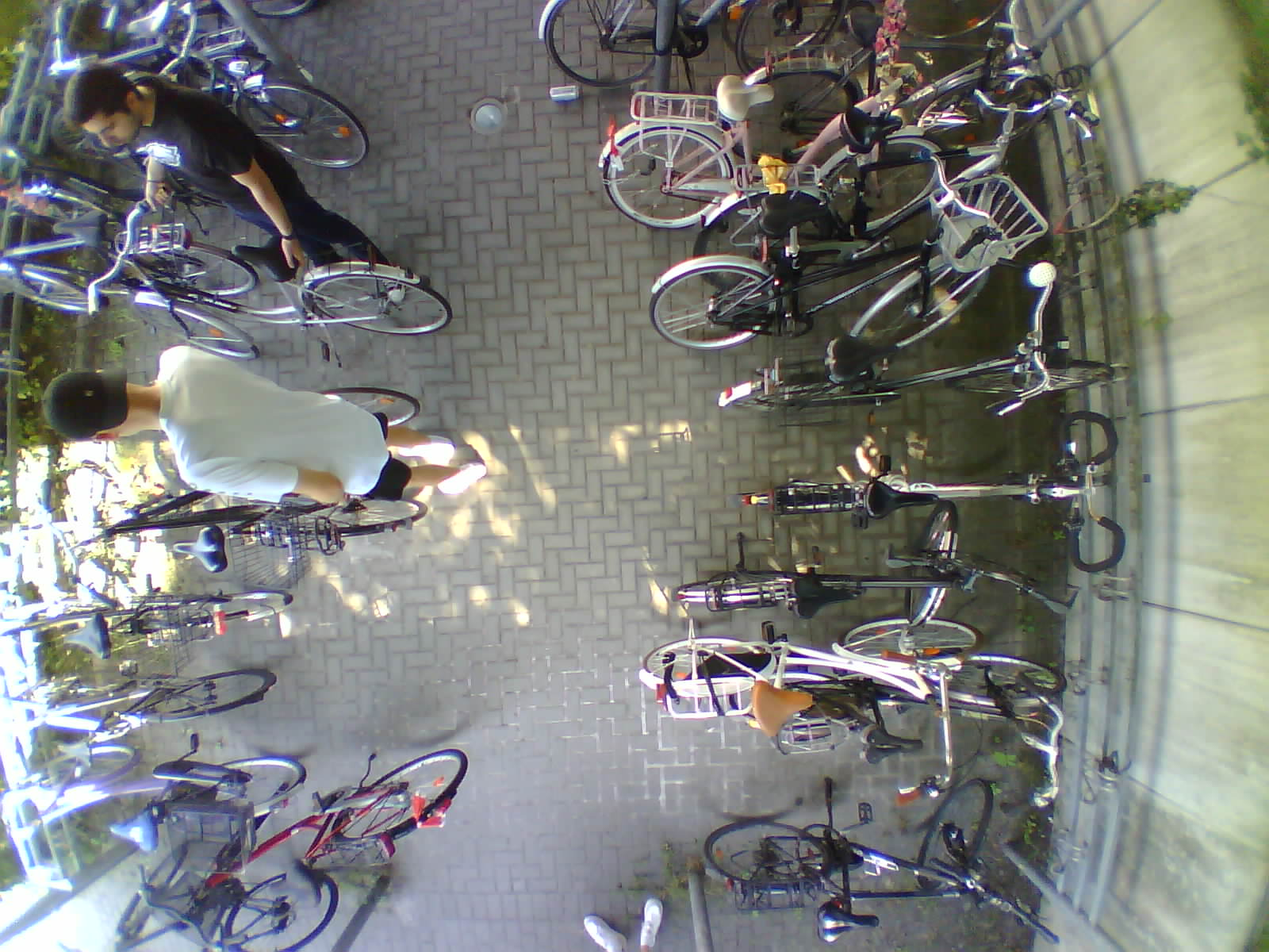bicylce: (694, 113, 1036, 296), (599, 64, 944, 230), (648, 196, 997, 353), (719, 27, 1054, 175), (702, 782, 995, 927), (119, 237, 452, 364), (181, 748, 468, 891), (638, 616, 974, 726), (675, 504, 980, 624), (720, 336, 1111, 428), (734, 656, 1067, 756), (17, 743, 309, 849), (89, 491, 425, 579), (1, 214, 257, 313), (10, 668, 277, 756), (109, 850, 341, 951), (734, 464, 1096, 528), (6, 582, 296, 660)
saddle: (826, 335, 901, 386), (753, 680, 813, 737), (841, 107, 901, 159), (763, 194, 828, 240), (796, 575, 859, 622), (718, 74, 775, 121), (867, 481, 939, 518), (232, 235, 292, 278), (815, 907, 880, 946), (863, 726, 923, 768), (172, 528, 226, 573), (269, 860, 320, 907), (62, 616, 110, 660), (54, 210, 109, 246), (111, 813, 158, 855), (124, 0, 173, 38), (844, 12, 891, 45), (56, 744, 94, 769)
